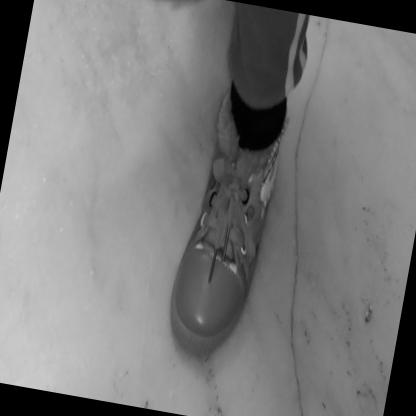ankle: (262, 143, 271, 160)
heel: (272, 168, 277, 176)
left_foot: (163, 89, 292, 364)
pinky: (227, 301, 233, 315)
toe: (177, 284, 185, 296)
